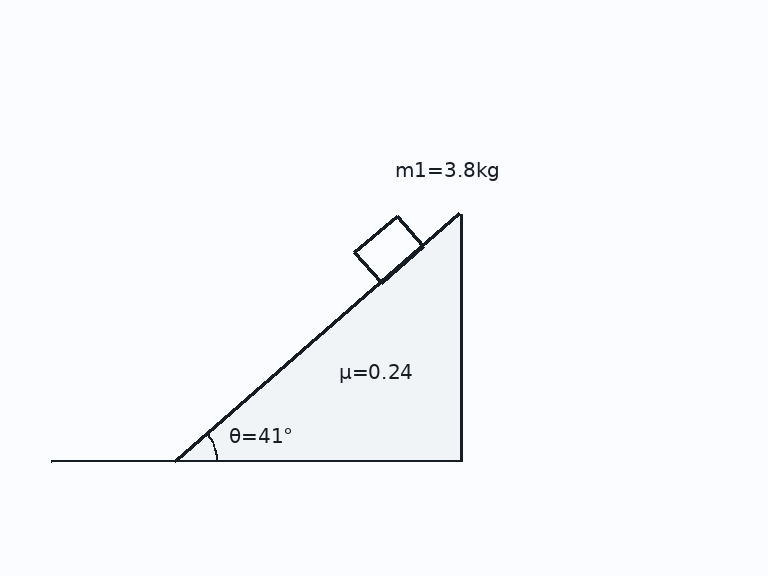block: (352, 214, 425, 285)
ramp: (175, 212, 462, 462)
